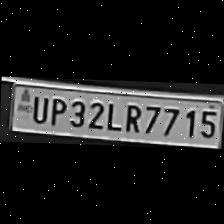1: (179, 105, 196, 136)
2: (85, 98, 105, 129)
3: (66, 95, 86, 126)
5: (196, 105, 216, 138)
7: (158, 102, 180, 136), (142, 100, 160, 132)
L: (102, 98, 122, 130)
P: (46, 94, 66, 124)
R: (122, 100, 142, 132)
U: (28, 92, 48, 123)
